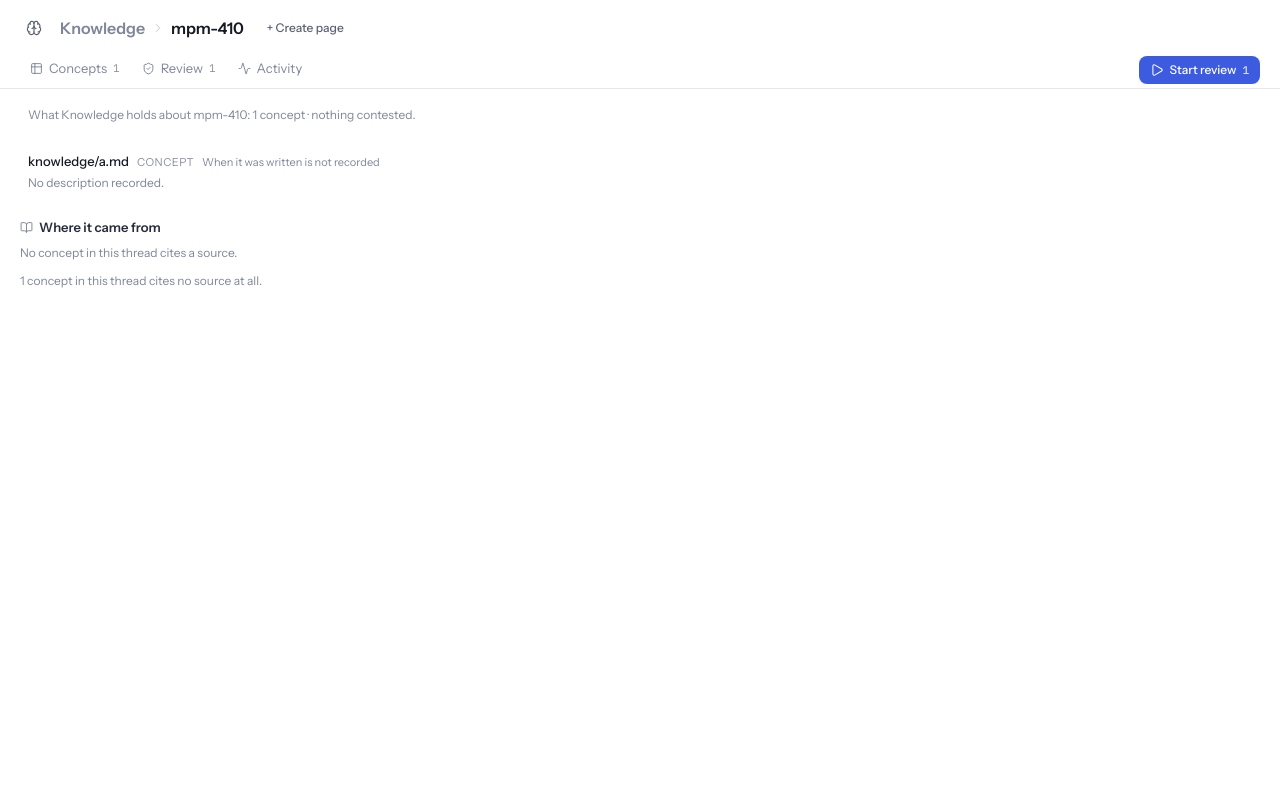
Test case: KnowledgePage subjects (M33a.3, a deep link since M51) › offers + Create page on a dangling subject, pre-filled with its name (D1/D7)
Click the button with test id "promote-thread" at (305, 28), box [256,14,355,42]
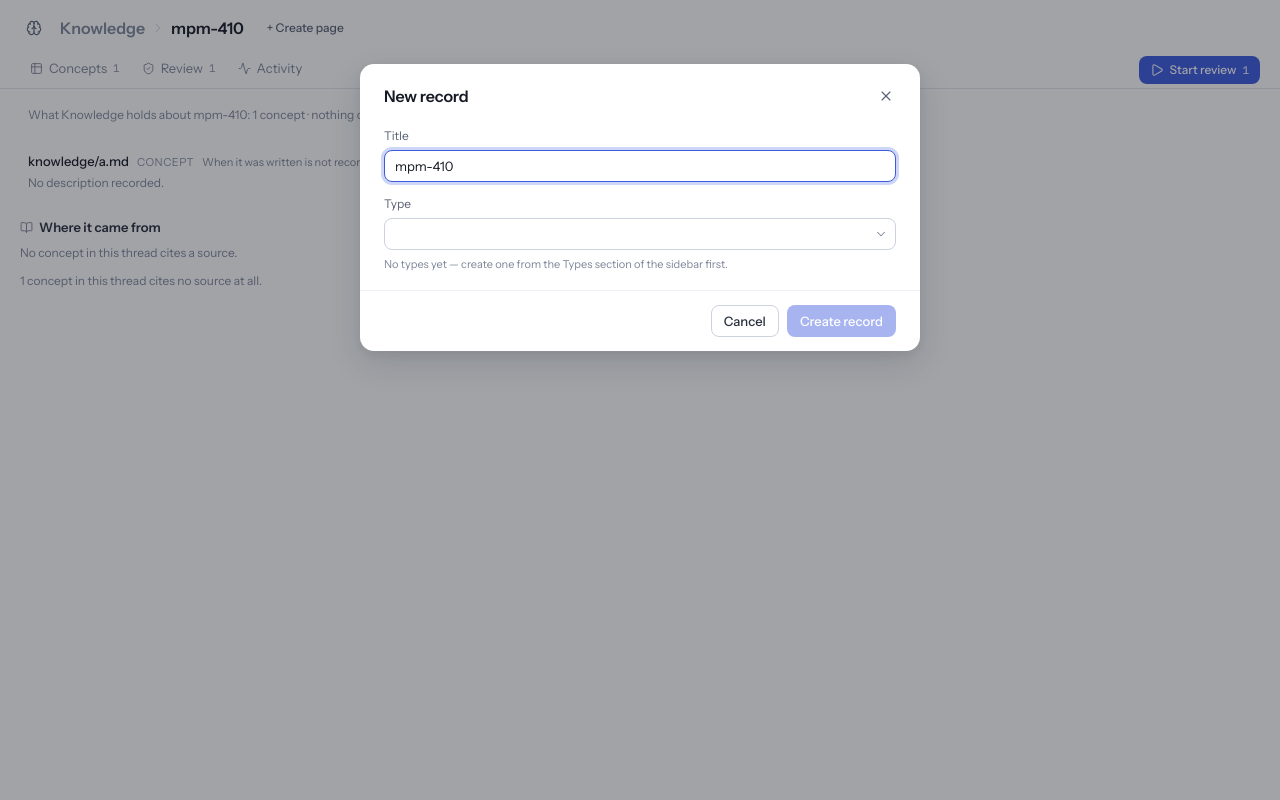
Expected: the field showing "mpm-410" is shown, [395,151,885,181]
